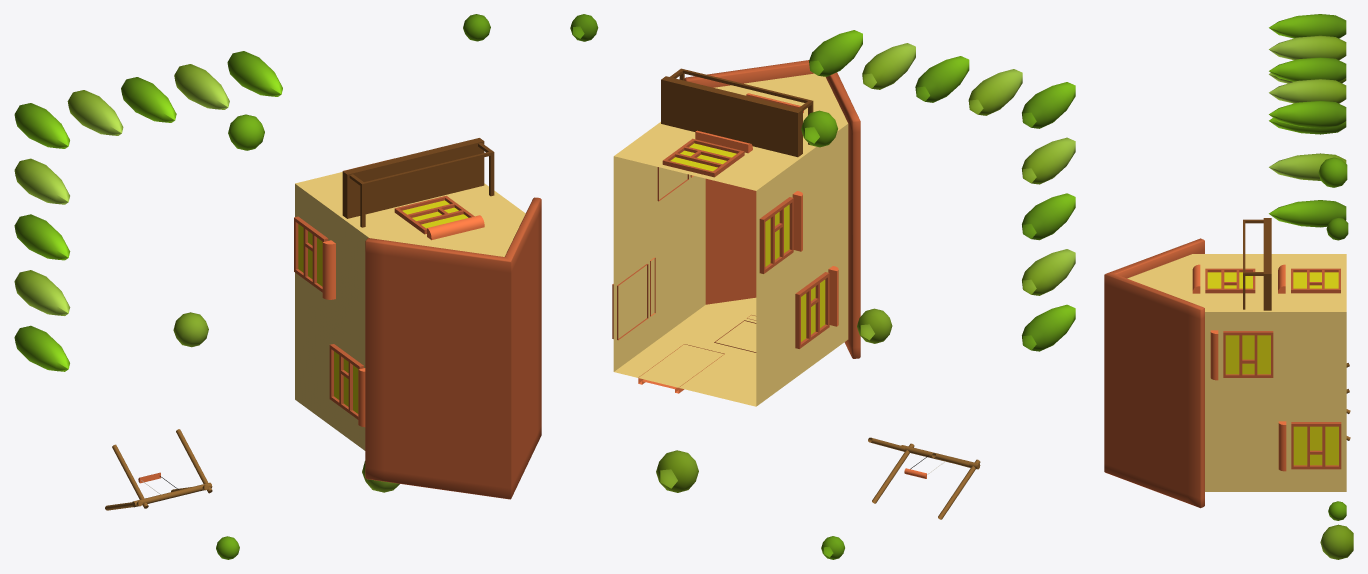
File: Simple_House_03_05.fbx
3 views of the same model, side by side, from view 1: azimuth 30°, elevation 25°; view 2: azimuth 150°, elevation 25°; view 3: azimuth 270°, elevation 25° (orthographic). The views are drawn at different scales.
Parts seen in each view (by area): view 1: Simple_House_03_05; view 2: Simple_House_03_05; view 3: Simple_House_03_05.
Part boxes in pixels (bbox=[...]): Simple_House_03_05: bbox=[14, 14, 541, 559]; Simple_House_03_05: bbox=[570, 14, 1075, 559]; Simple_House_03_05: bbox=[1104, 14, 1353, 559].
Bounding box in the file's own units: 179 × 182 × 97.21.
